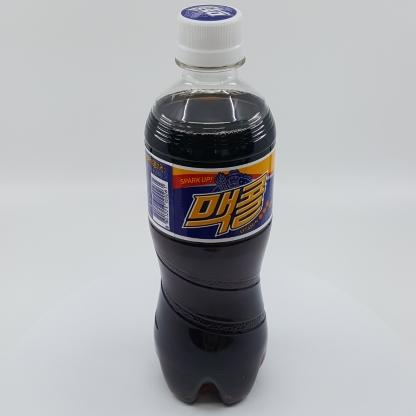-----500ML: (144, 4, 276, 405)
